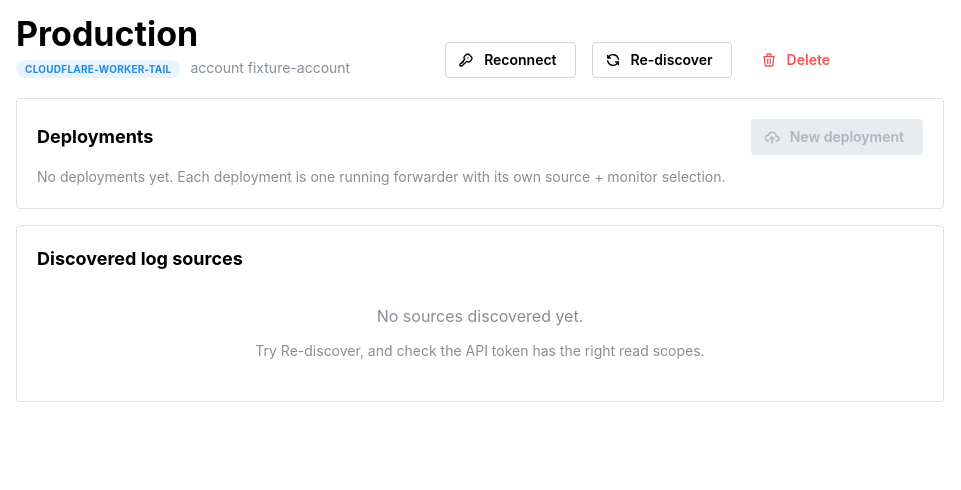
Scenario: queues discovery and explains whether it was deduplicated (false)
Check: the heading "Production" is shown, box [16,13,198,54]
Click the button "Re-discover" at (662, 60), box [592,42,732,78]
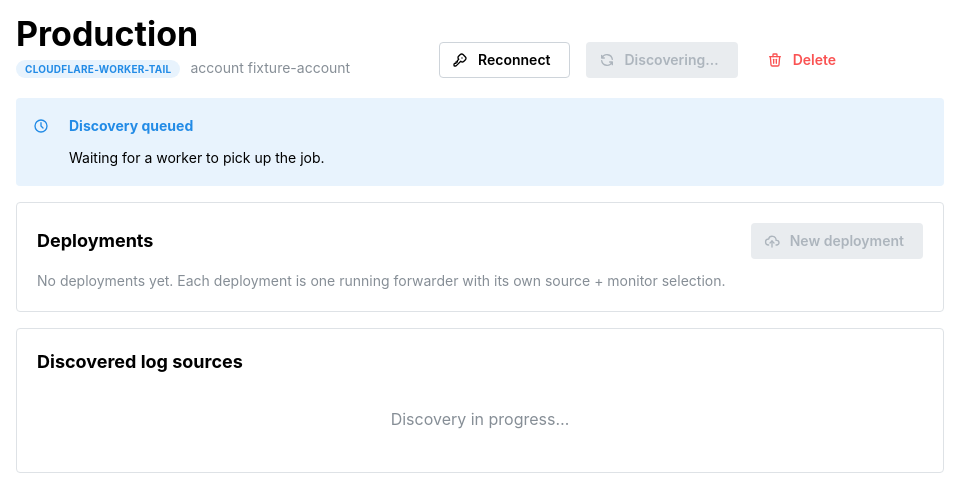
Check: the text "Discovery queued" is shown, box [69,116,193,137]
Check: the button "Discovering…" is disabled, box [586,42,738,78]
